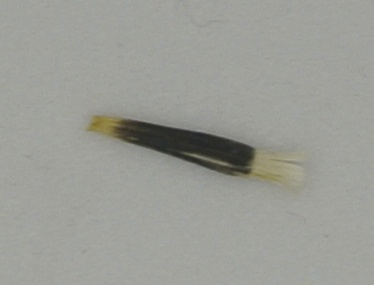เมล็ดดีติดกัน: (85, 111, 306, 197)
